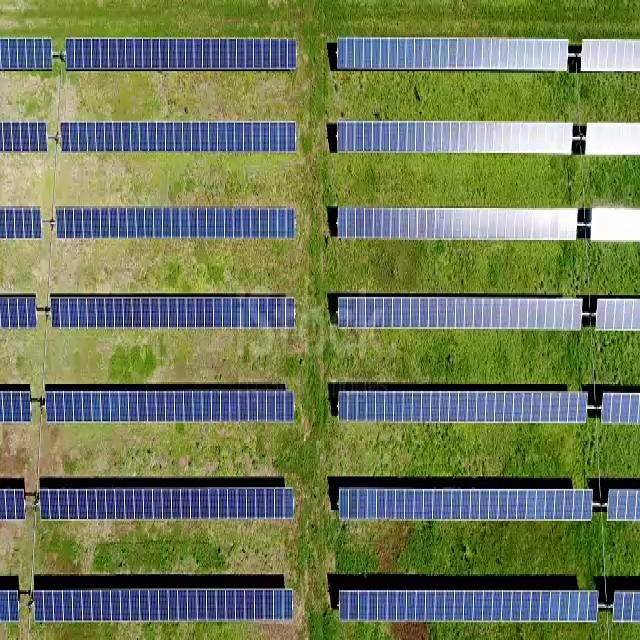Solar-panels: (30, 591, 294, 626), (337, 120, 574, 157), (52, 296, 294, 330), (340, 590, 597, 622), (43, 492, 298, 524), (48, 390, 295, 423), (58, 207, 295, 241), (66, 37, 297, 71), (339, 208, 578, 240), (339, 299, 584, 330), (340, 490, 597, 519), (62, 120, 298, 151), (336, 40, 570, 71), (342, 393, 588, 422)
